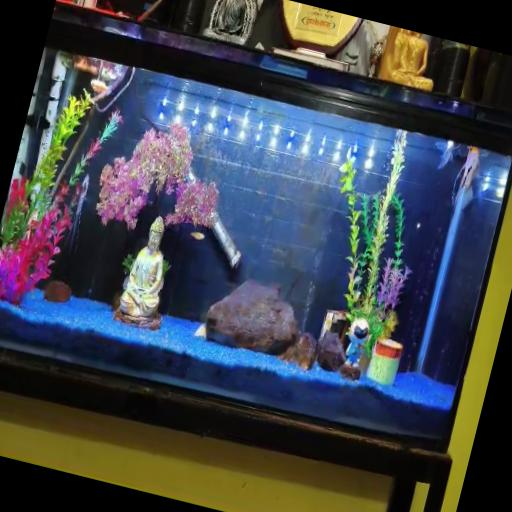Fish: (451, 147, 479, 208), (66, 174, 88, 251), (435, 141, 459, 169), (90, 79, 108, 94), (190, 232, 203, 240)
